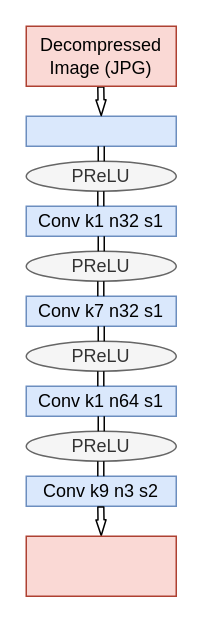
Some shapes in this 203 by 623 pixel diagram are drawn without their labels. Here are the shapes that lost their labels. From the top down, the box of each, then its label:
(25, 115, 176, 146): Conv k9 n64 s2
(25, 535, 176, 596): Restored Image
